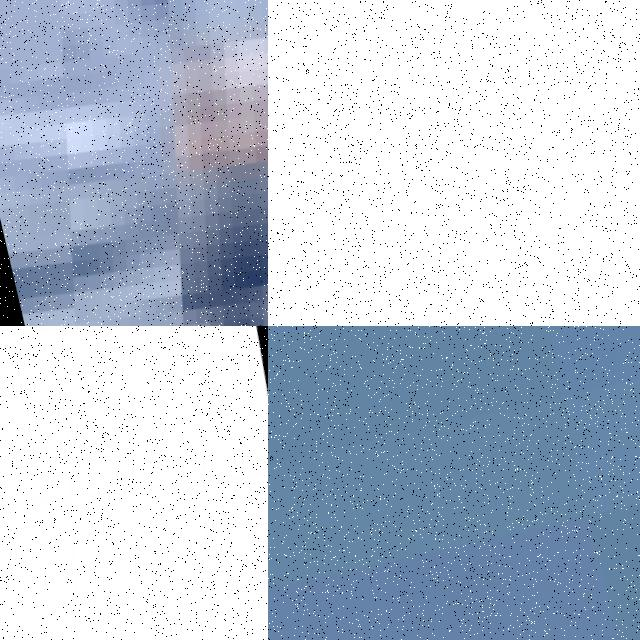0: (0, 0, 268, 326)
drone: (0, 326, 268, 640)
